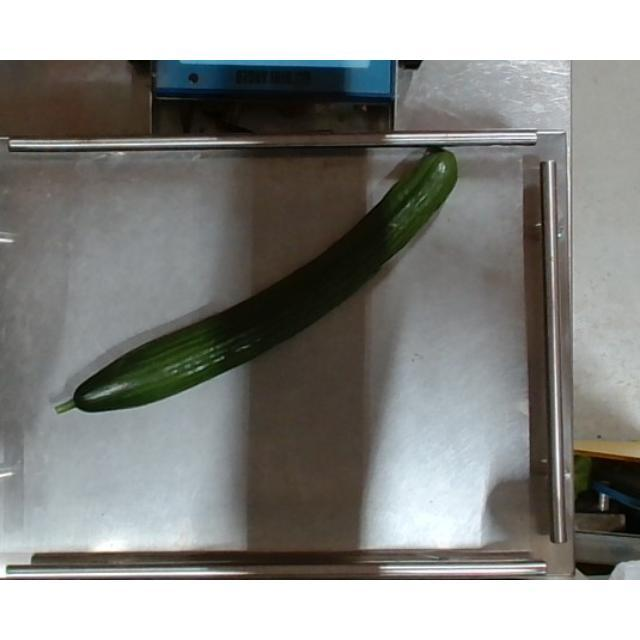cucumber: (55, 147, 457, 417)
